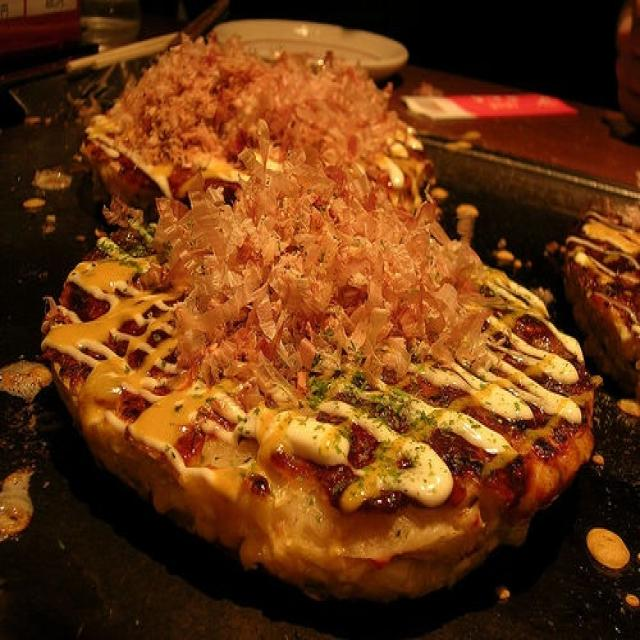蛋糕甜品: (35, 21, 604, 599)
